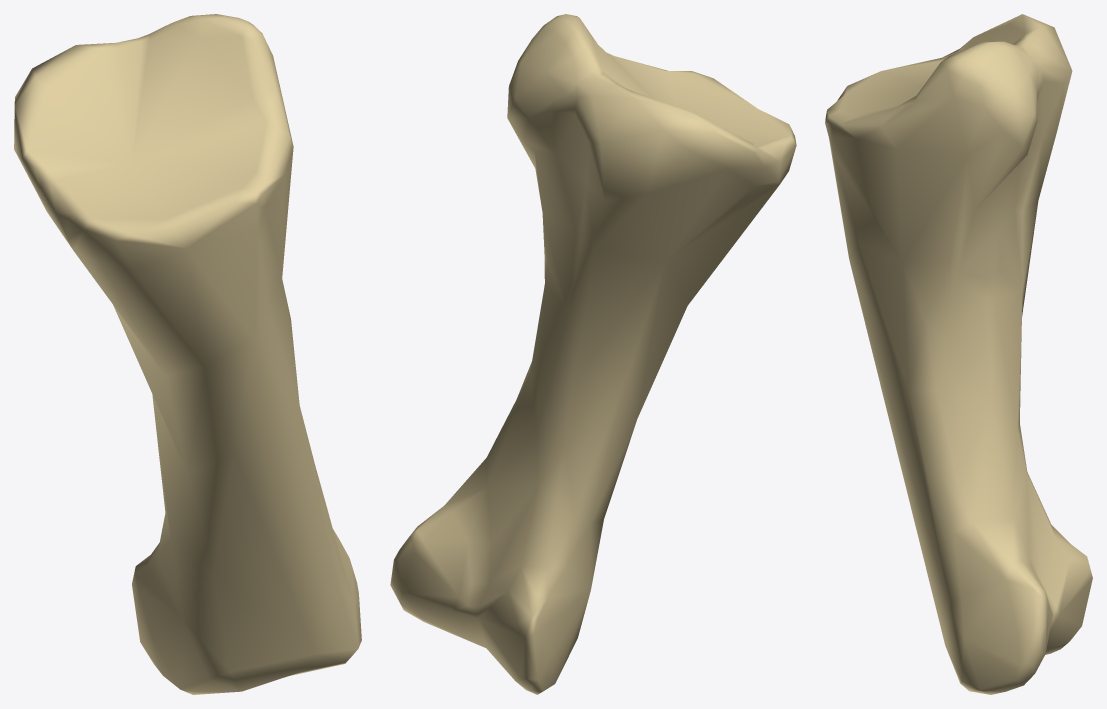
3 renders of one model, left to right at view 1: azimuth 30°, elevation 25°; view 2: azimuth 150°, elevation 25°; view 3: azimuth 270°, elevation 25°, orthographic. The views are drawn at different scales.
Visible parts, largest first — view 1: 左侧第三趾近节趾骨; view 2: 左侧第三趾近节趾骨; view 3: 左侧第三趾近节趾骨.
Part boxes in pixels (<box>): 左侧第三趾近节趾骨: <box>14,14,361,694</box>; 左侧第三趾近节趾骨: <box>390,14,796,694</box>; 左侧第三趾近节趾骨: <box>825,14,1092,694</box>.
Size of the model in its own units: 0.0242 by 0.0445 by 0.0176.
